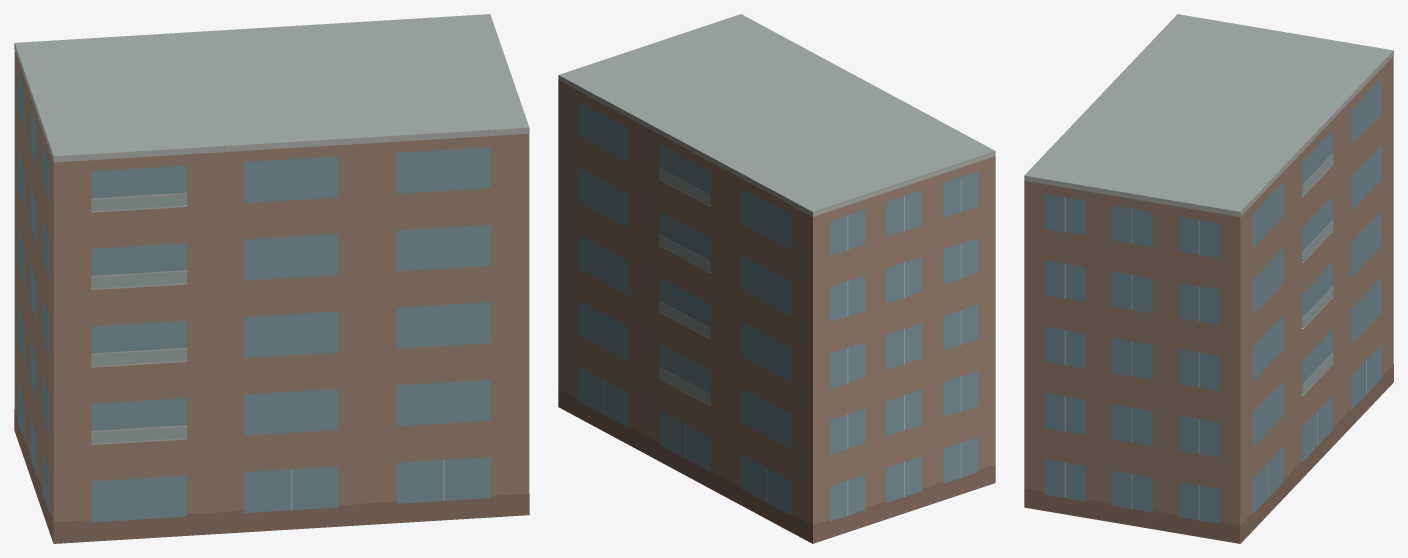
Rendered from survey-upis-32956852.glb.
The picture shows the model from 3 angles, left to right: view 1: azimuth 30°, elevation 25°; view 2: azimuth 150°, elevation 25°; view 3: azimuth 270°, elevation 25°; orthographic projection. The views are drawn at different scales.
Visible parts, largest first — view 1: survey-upis-32956852.tmp; view 2: survey-upis-32956852.tmp; view 3: survey-upis-32956852.tmp.
Part boxes in pixels (x1,y1,x2,y2): survey-upis-32956852.tmp: [14, 14, 529, 543]; survey-upis-32956852.tmp: [558, 14, 995, 543]; survey-upis-32956852.tmp: [1024, 14, 1393, 543].
Bounding box in the file's own units: 19.96 × 15.6 × 15.75.
